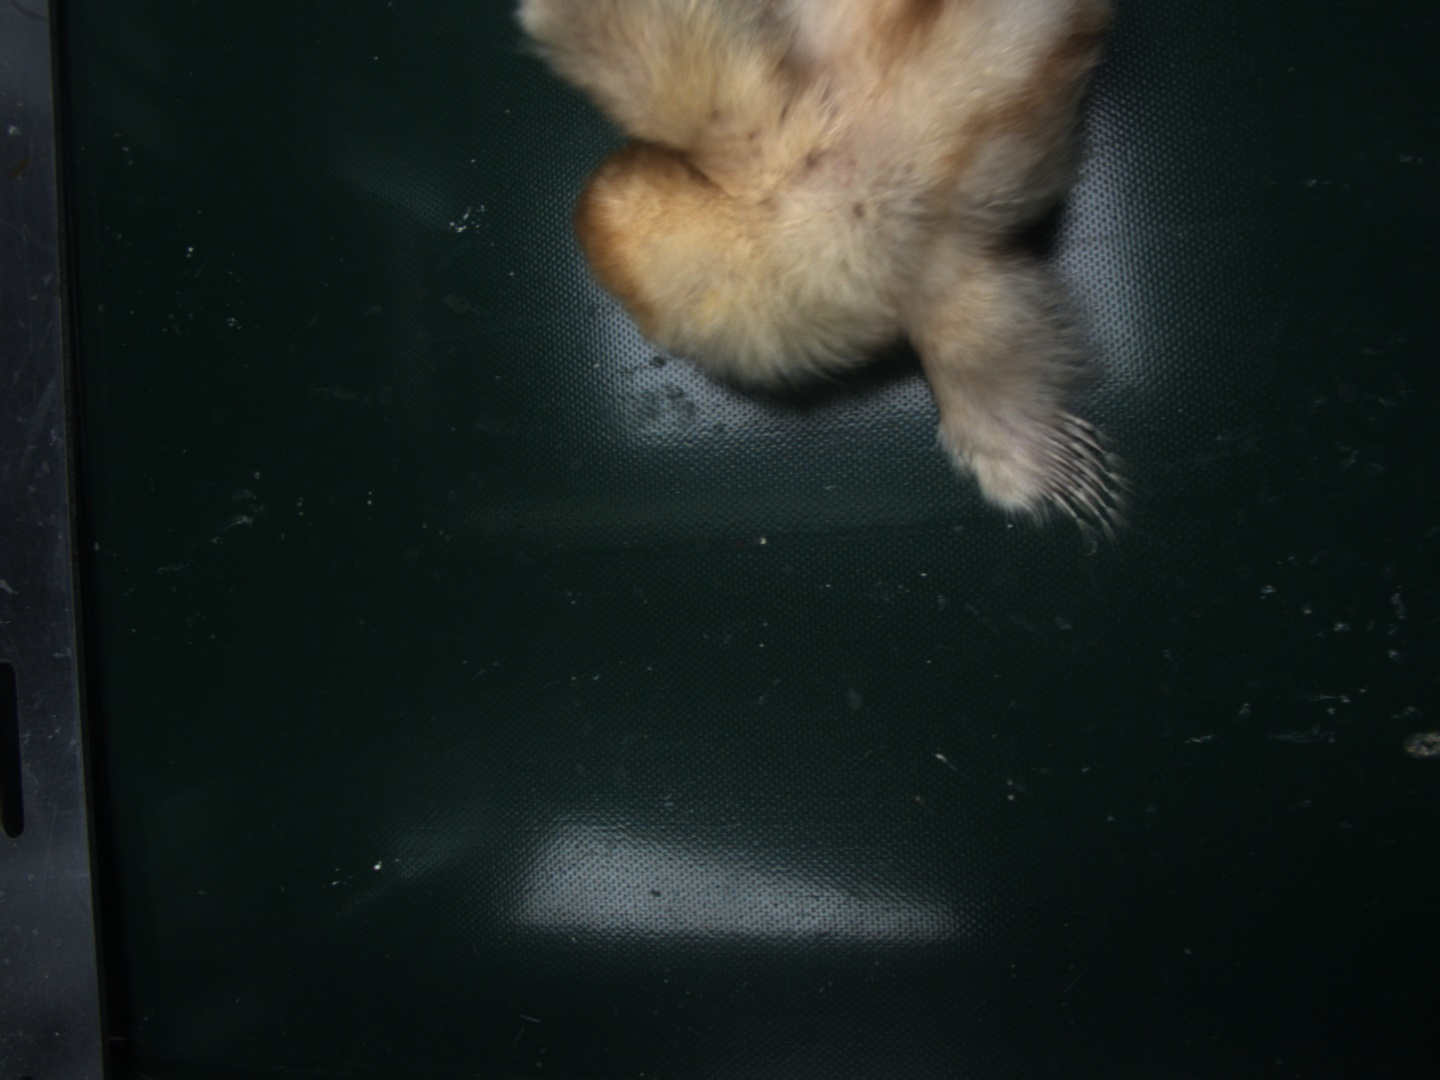female: (1031, 406, 1110, 515)
